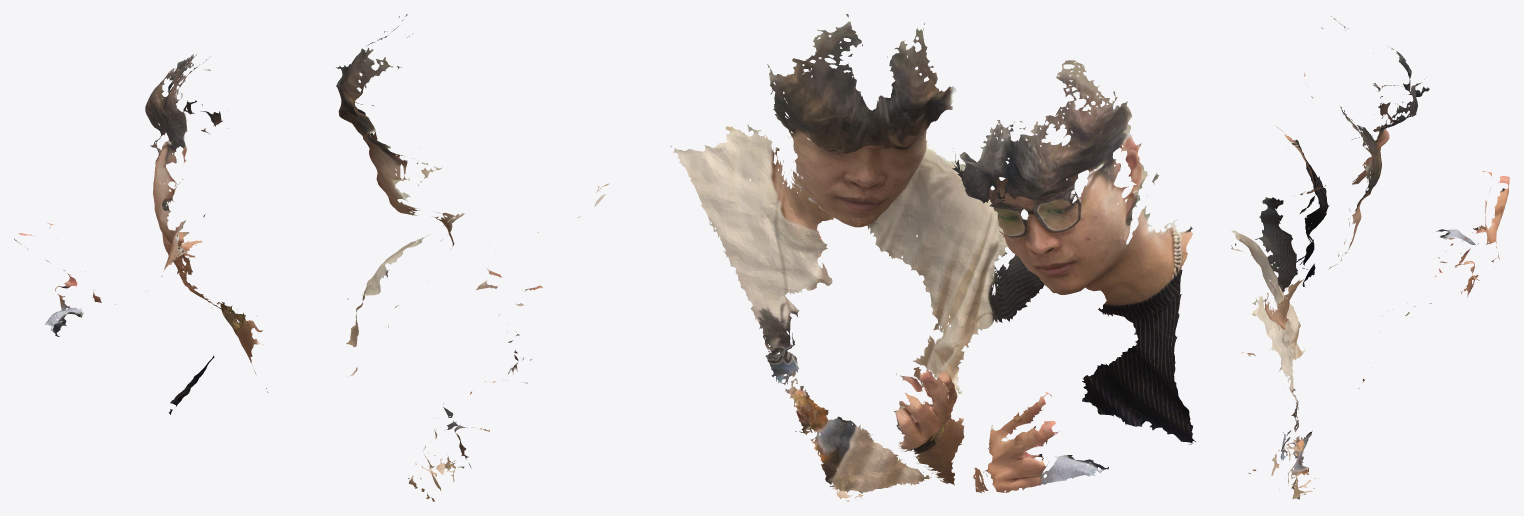
Rendered from Untitled_Scan_13_36_44.gltf.
3 views of the same model, side by side, from view 1: azimuth 30°, elevation 25°; view 2: azimuth 150°, elevation 25°; view 3: azimuth 270°, elevation 25° (orthographic). The views are drawn at different scales.
Size of the model in its own units: 0.7501 by 0.673 by 0.4409.
1 material, 1 textured.
